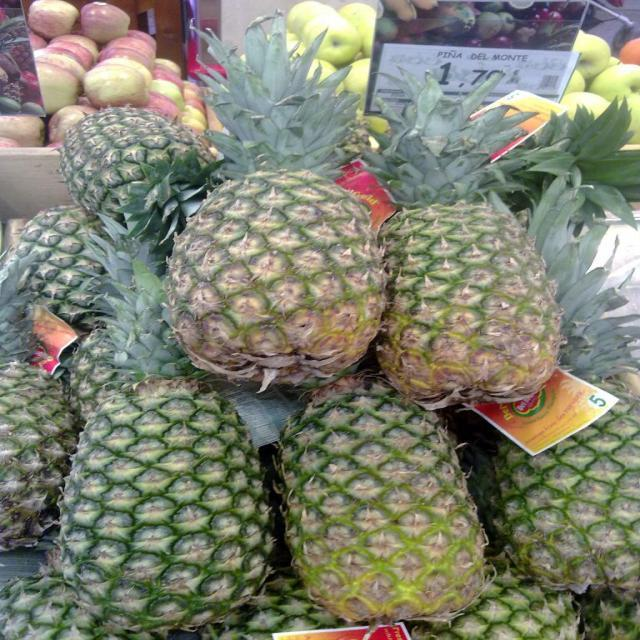Pineapple: (0, 5, 639, 640)
